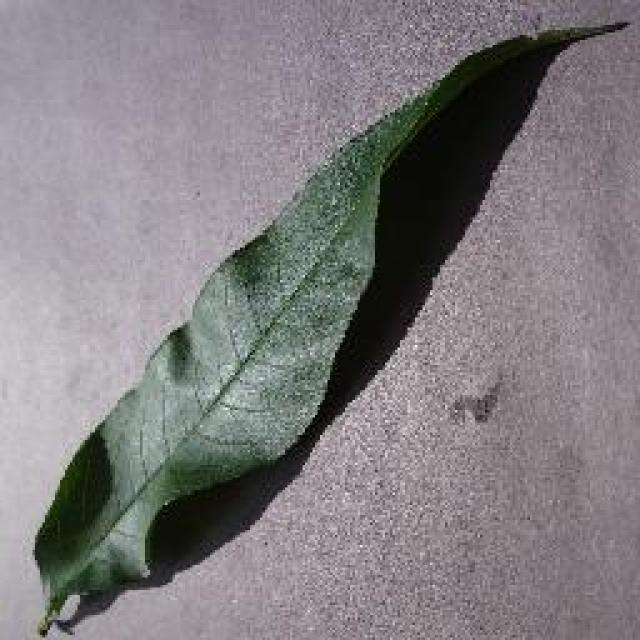Pea_healthy: (97, 98, 405, 556)
